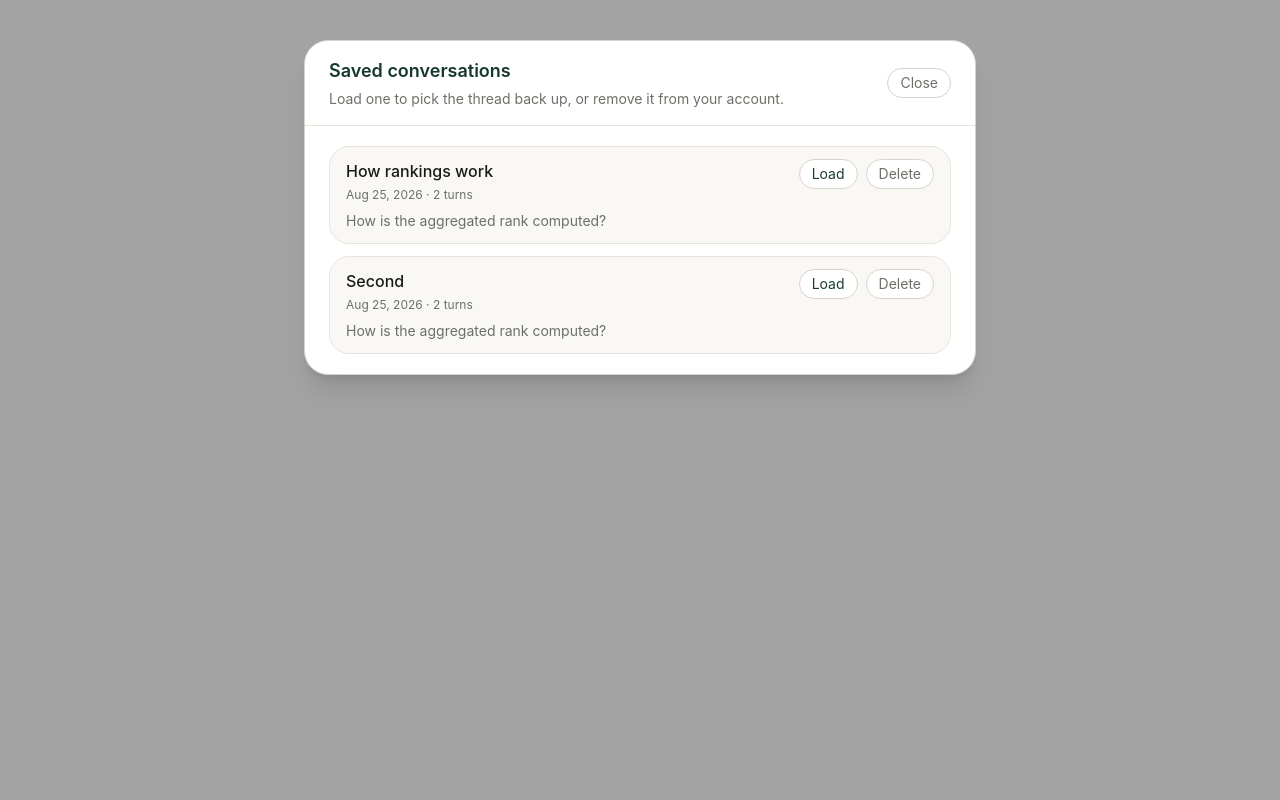
Test: ConversationHistoryPanel: loading a transcript › shows progress and locks every row while the request is in flight
Click the button "Load" in the row of "How rankings work" at coordinates (828, 174), box [799,159,858,189]
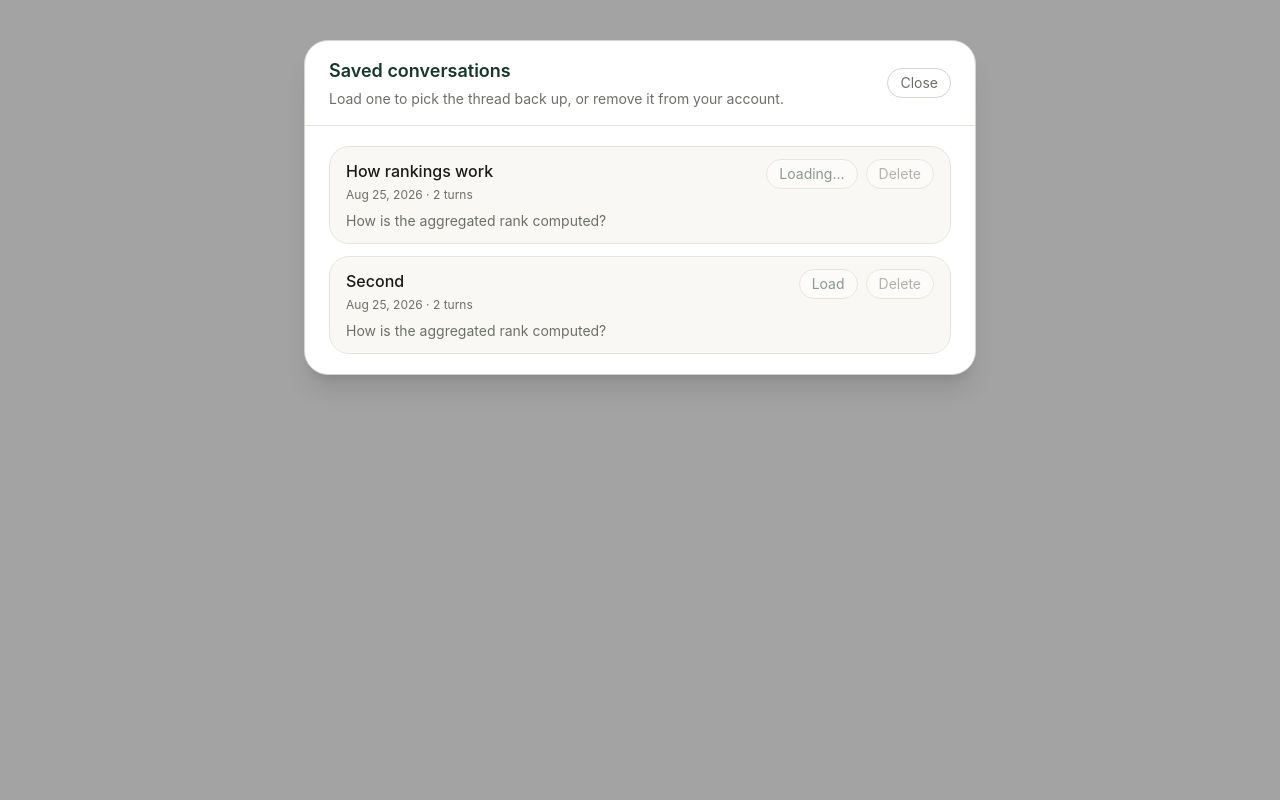
Check: the button "Loading…" is disabled, box [766,159,858,189]
Check: the button "Load" is disabled, box [799,269,858,299]
Check: the button "Delete " in the row of "How rankings work" is disabled, box [866,159,934,189]
